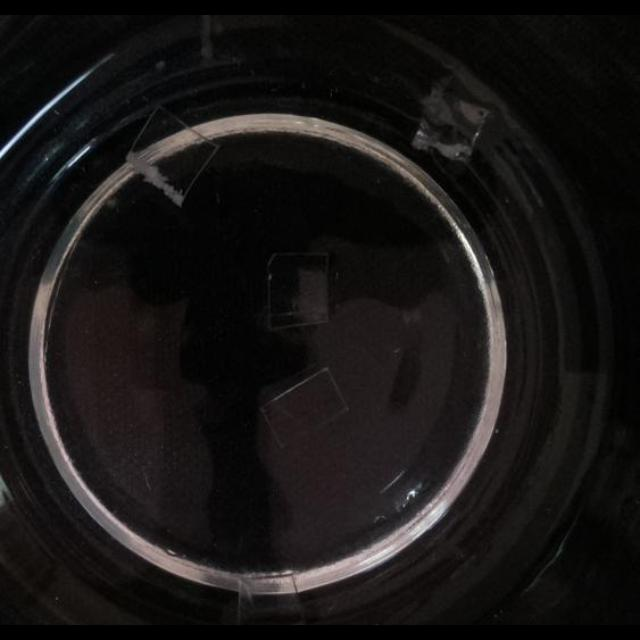Film: (125, 105, 222, 203), (259, 366, 355, 452), (412, 87, 492, 163), (264, 252, 336, 331), (232, 570, 302, 626)
